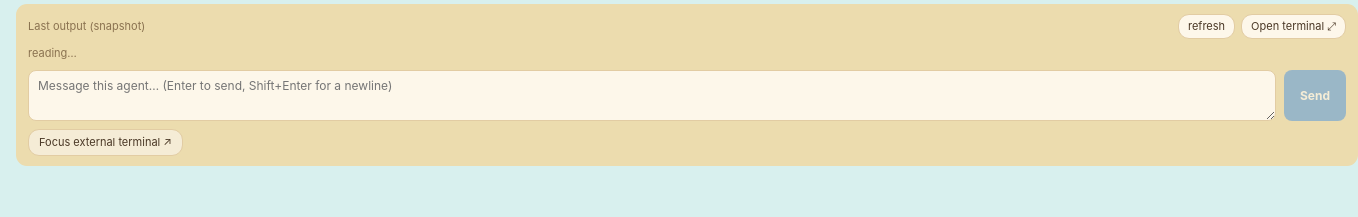
Test: AgentActions › shows an honest error when sending fails (e.g. a stale pane reused for a different repo), and keeps the composed text
Replace the text in the text box with placeholder "Message this agent" with "please add a test" at (652, 96), box top-left (28, 70), bottom-right (1276, 121)
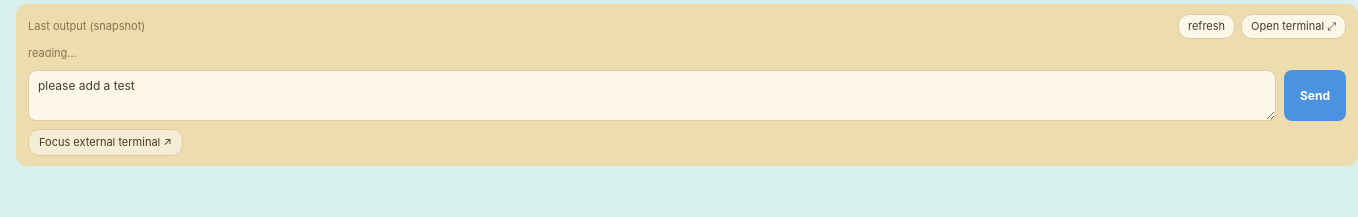
Click the button "Send" at (1315, 96), box top-left (1284, 70), bottom-right (1346, 121)
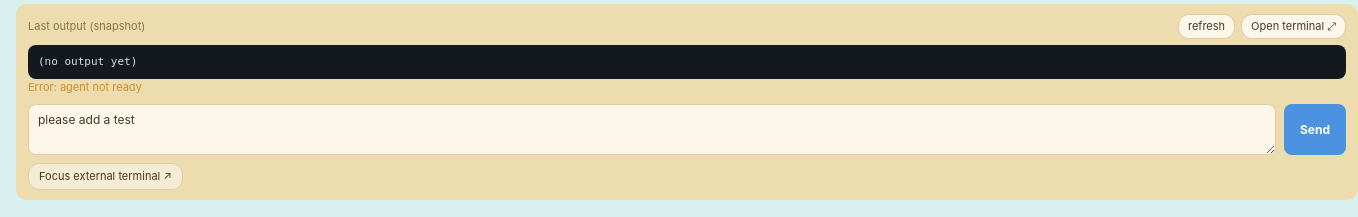
Expected: the message shows "agent not ready", top-left (28, 80), bottom-right (142, 94)
